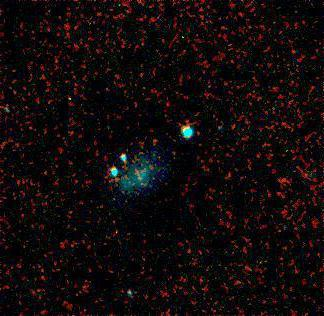star: (139, 160, 169, 190)
